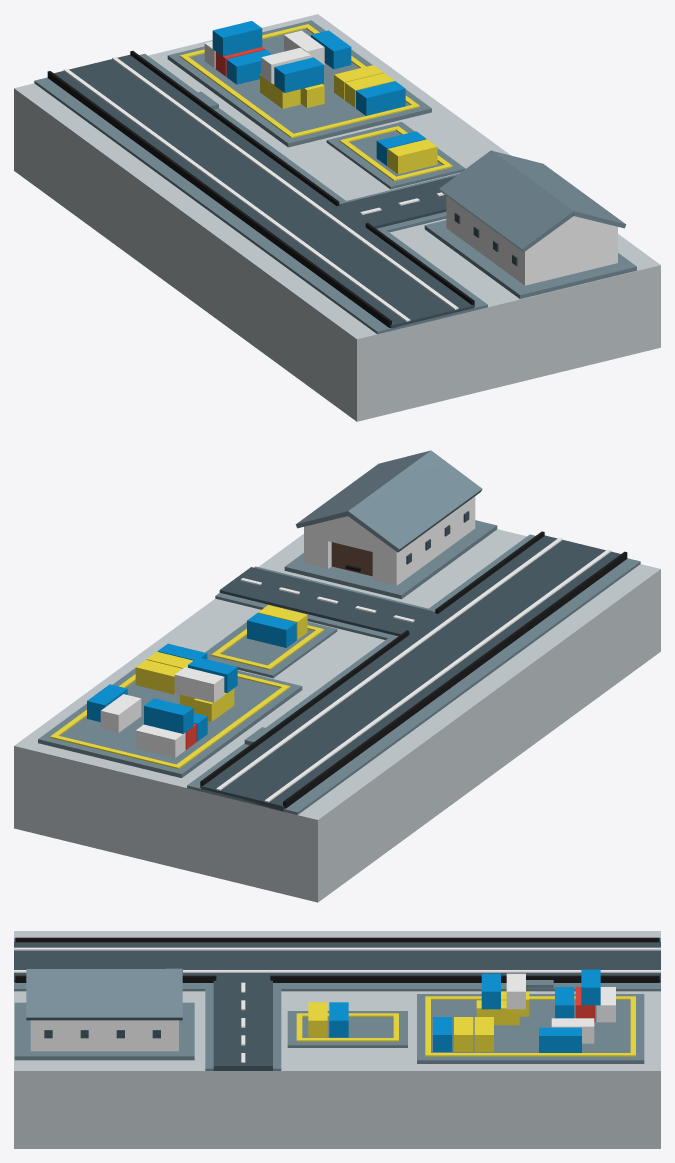
The model's file is armazem.fbx.
3 renders of one model, top to bottom at view 1: azimuth 30°, elevation 25°; view 2: azimuth 150°, elevation 25°; view 3: azimuth 270°, elevation 25°, orthographic. The views are drawn at different scales.
Parts seen in each view (by area): view 1: terreno, Null, armazem_2, containers, armazem; view 2: terreno, Null, armazem_2, containers, armazem; view 3: terreno, Null, containers, armazem_2, armazem.
Part boxes in pixels (left/top/right/bottom): terreno: left=14, top=14, right=660, bottom=421; Null: left=34, top=20, right=487, bottom=334; armazem_2: left=439, top=150, right=626, bottom=285; containers: left=204, top=21, right=437, bottom=174; armazem: left=424, top=220, right=636, bottom=298; terreno: left=14, top=529, right=660, bottom=902; Null: left=38, top=531, right=640, bottom=814; armazem_2: left=295, top=450, right=482, bottom=585; containers: left=87, top=605, right=307, bottom=757; armazem: left=284, top=520, right=497, bottom=599; terreno: left=14, top=931, right=660, bottom=1148; Null: left=14, top=937, right=660, bottom=1070; containers: left=308, top=969, right=615, bottom=1052; armazem_2: left=26, top=968, right=182, bottom=1051; armazem: left=14, top=1002, right=194, bottom=1060.
Bounding box in the file's own units: 239 × 114 × 467.
